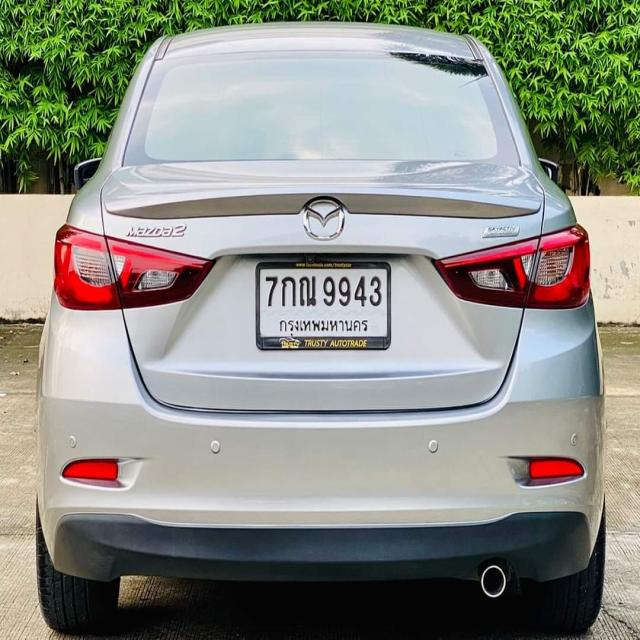license_plate: (256, 262, 391, 351)
